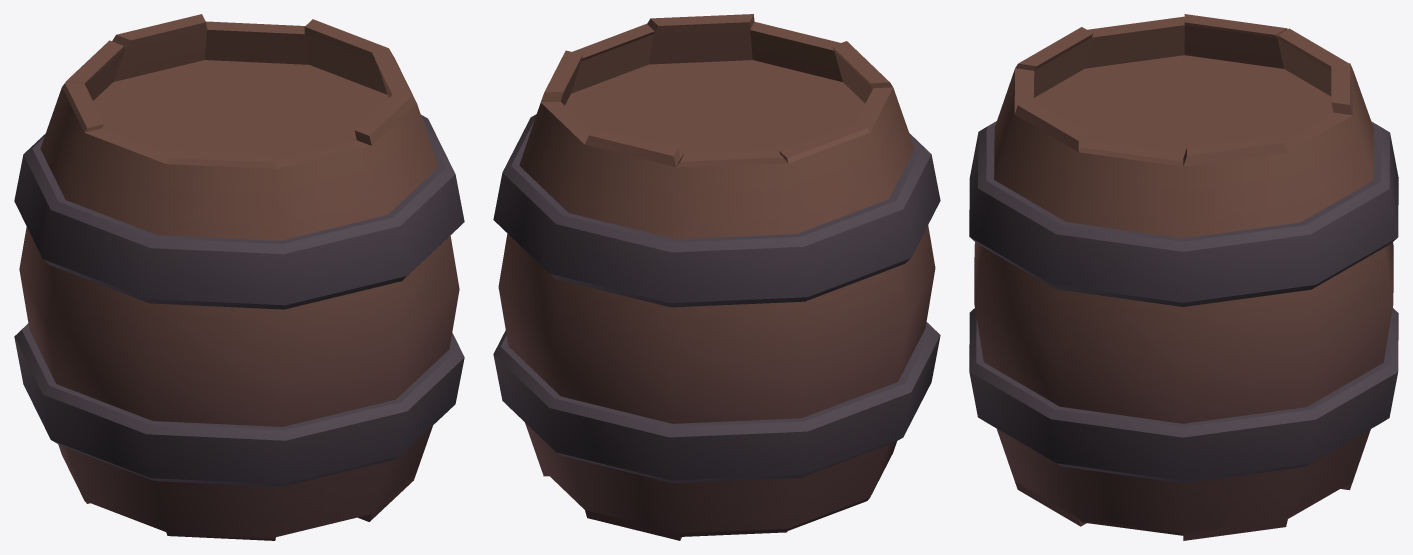
File: SM_Barrel.fbx
3 renders of one model, left to right at view 1: azimuth 30°, elevation 25°; view 2: azimuth 150°, elevation 25°; view 3: azimuth 270°, elevation 25°, orthographic.
Parts seen in each view (by area): view 1: SM_Barrel; view 2: SM_Barrel; view 3: SM_Barrel.
Part boxes in pixels (<box>): SM_Barrel: <box>14,14,464,540</box>; SM_Barrel: <box>493,14,940,540</box>; SM_Barrel: <box>969,14,1398,540</box>.
Bounding box in the file's own units: 36.1 × 33.95 × 34.37.
1 material, 1 textured.
